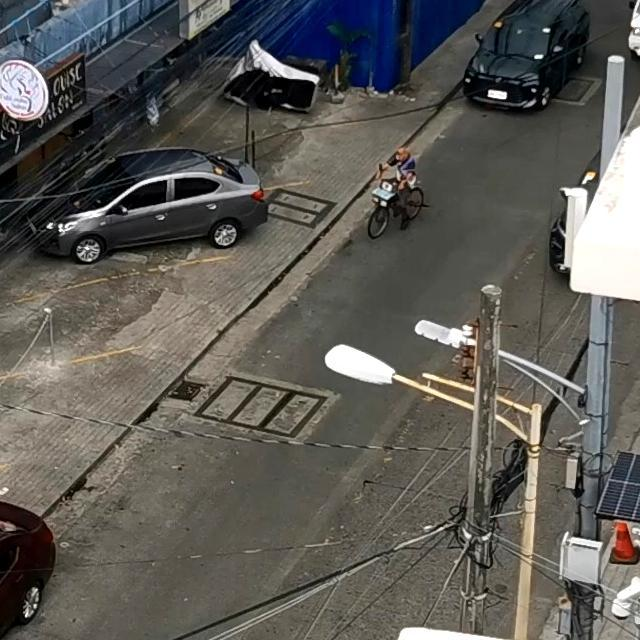Motorcycle: (376, 140, 420, 221)
